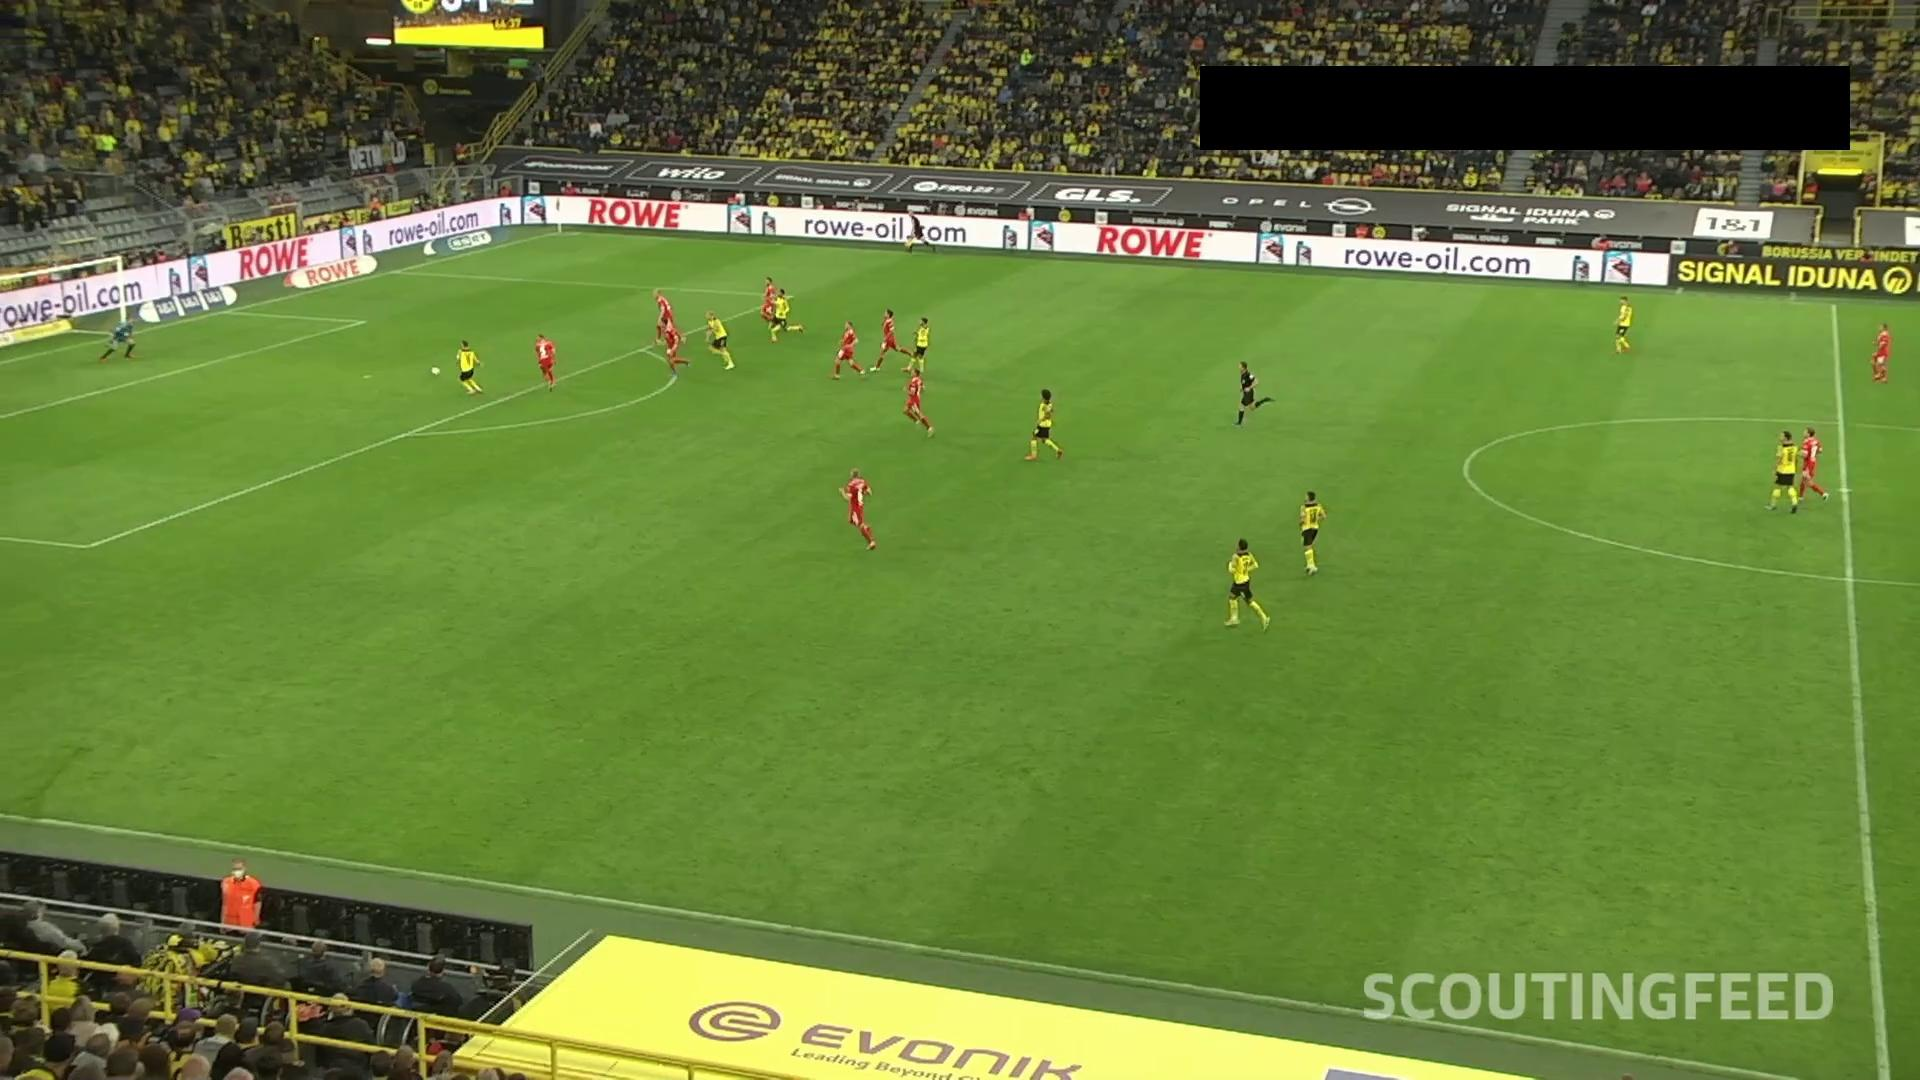Location-of-ball: (426, 353, 458, 386)
